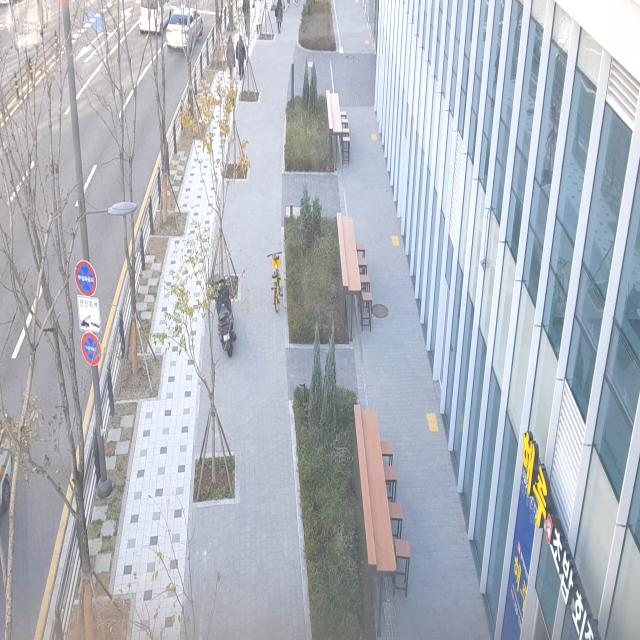Car: (163, 0, 210, 60), (136, 0, 176, 40)
